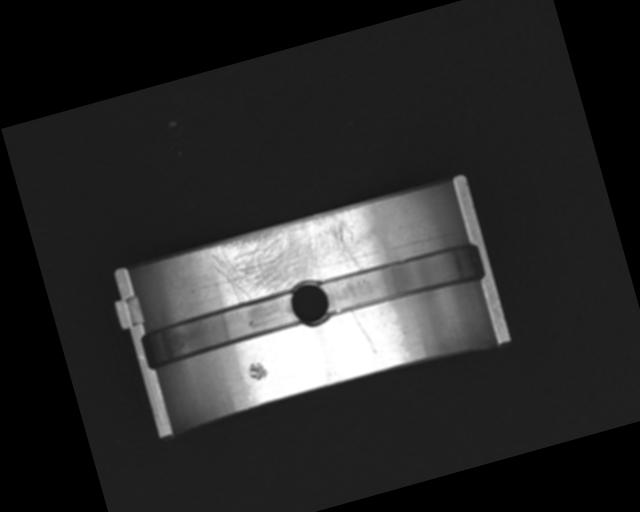bruise: (245, 358, 269, 383)
gap: (318, 239, 485, 320), (139, 290, 302, 368)
hole: (285, 277, 334, 330)
nick: (349, 307, 376, 357)
scratch: (207, 203, 380, 309)
